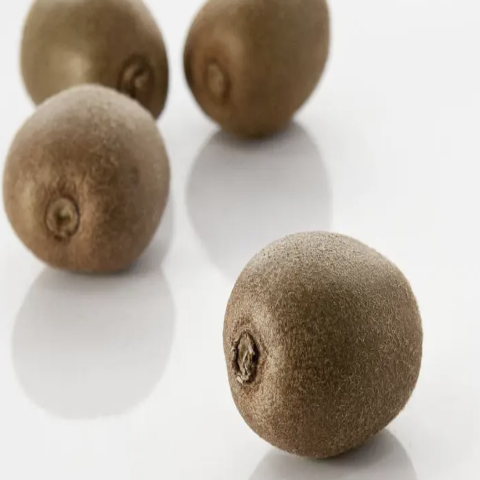kiwi: (204, 214, 441, 472), (0, 83, 194, 292)
